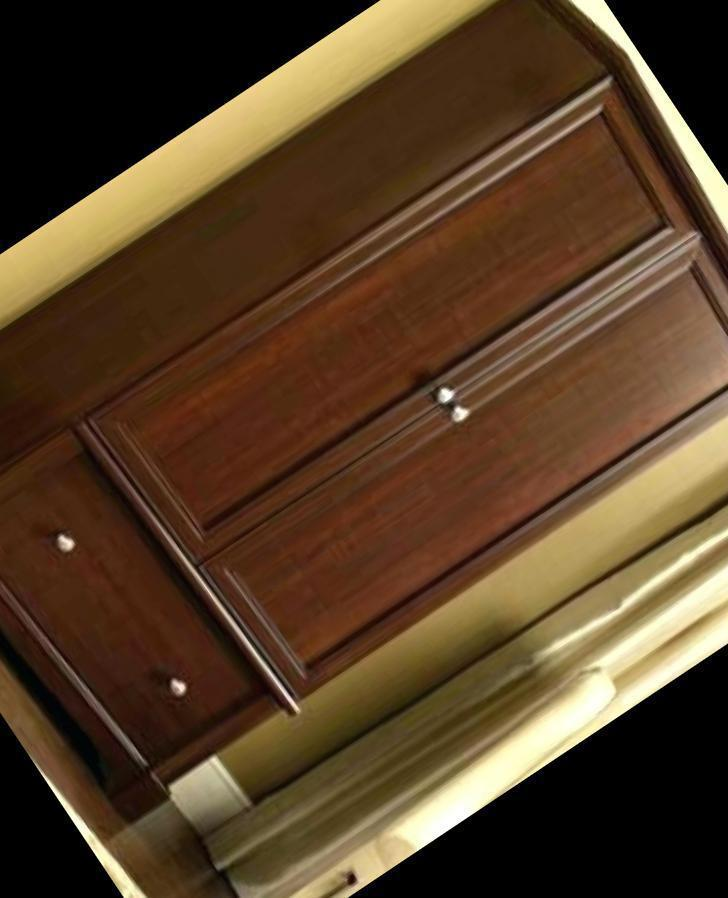Armario: (0, 0, 728, 856)
